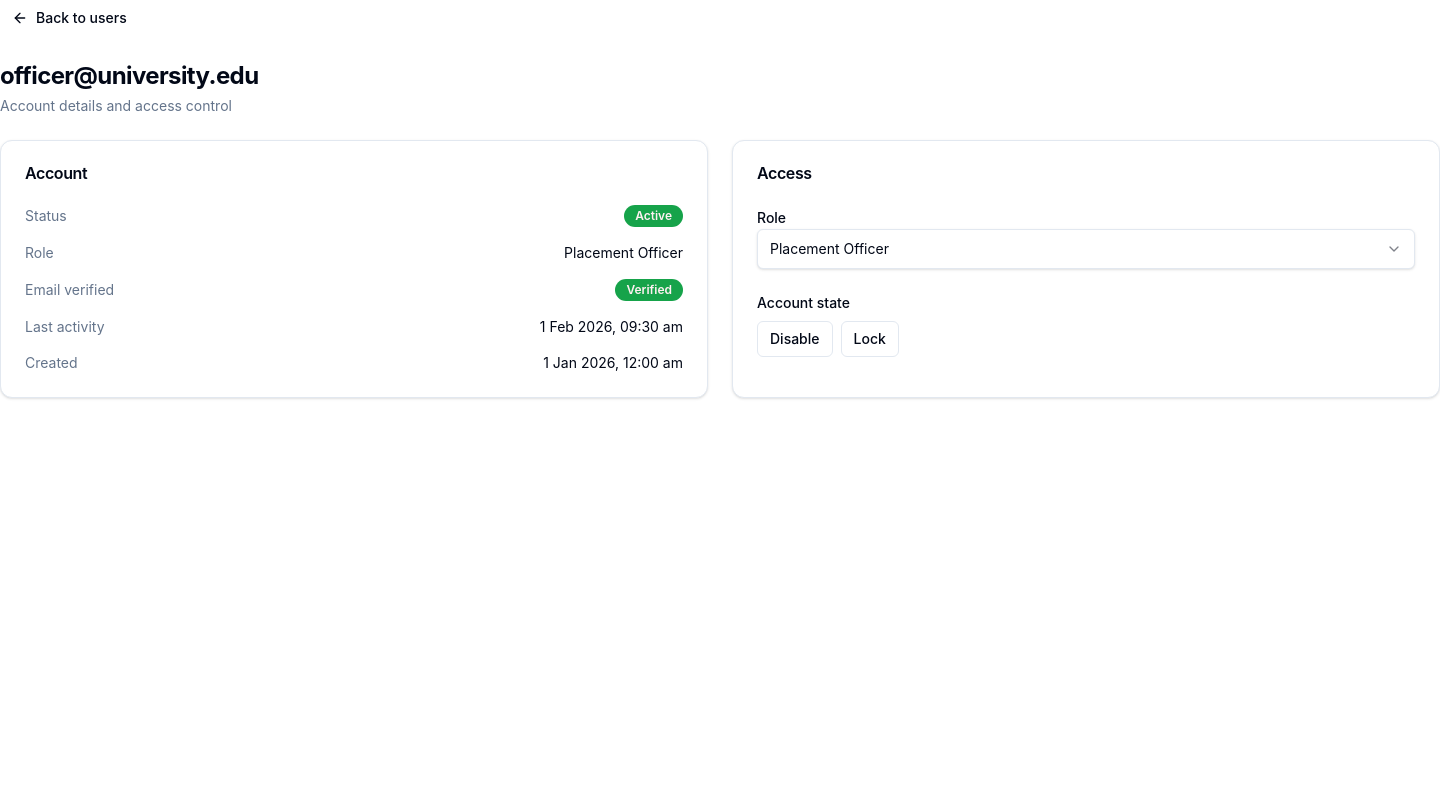
Test: UserDetailPage › confirms before disabling, then applies the change
Expected: the heading "officer@university.edu" is shown, [0, 60, 258, 92]
Click the button "Disable": (795, 339) [757, 321, 832, 357]
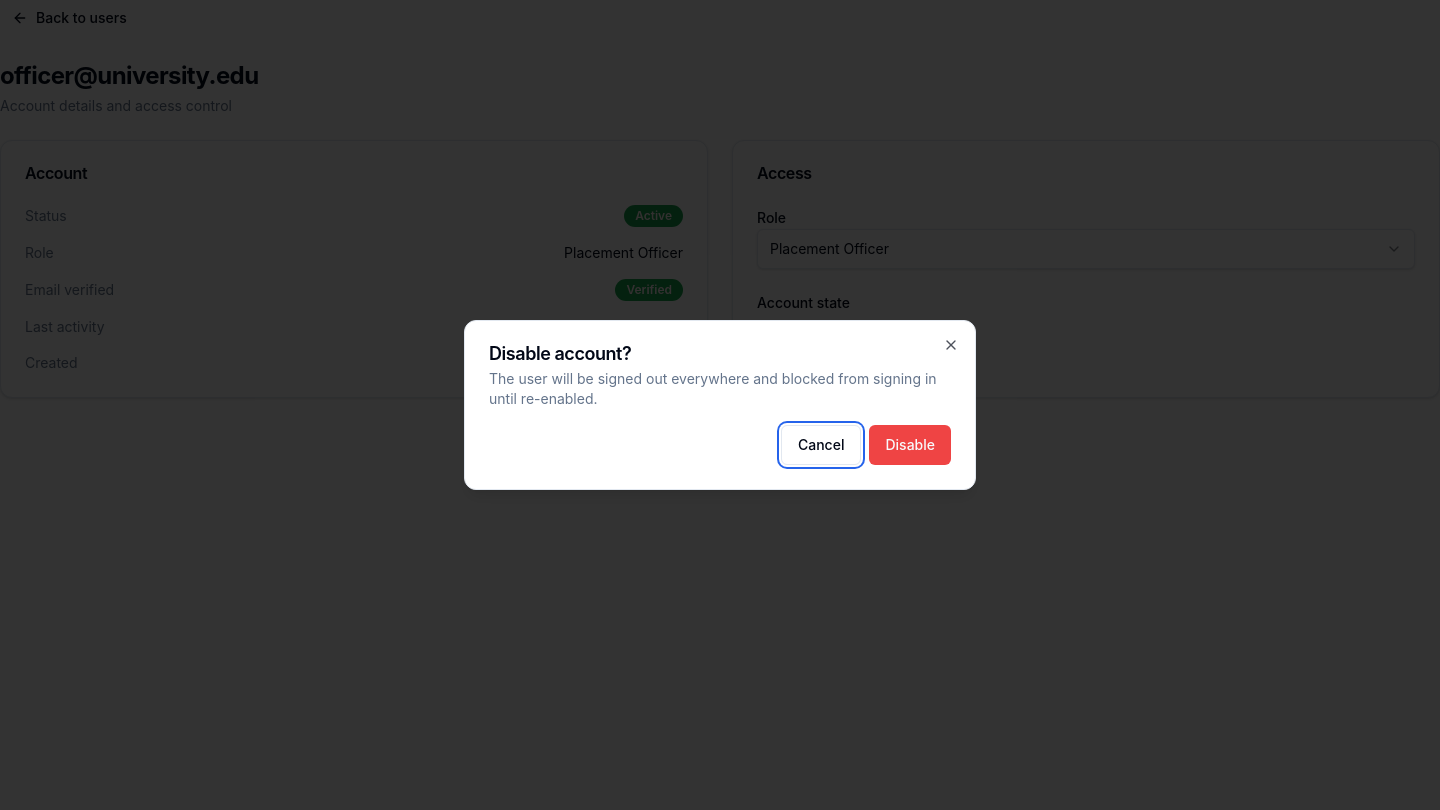
Expected: the heading "Disable account?" is shown, [489, 343, 631, 364]
Click the button "Disable": (910, 445) [870, 425, 951, 465]
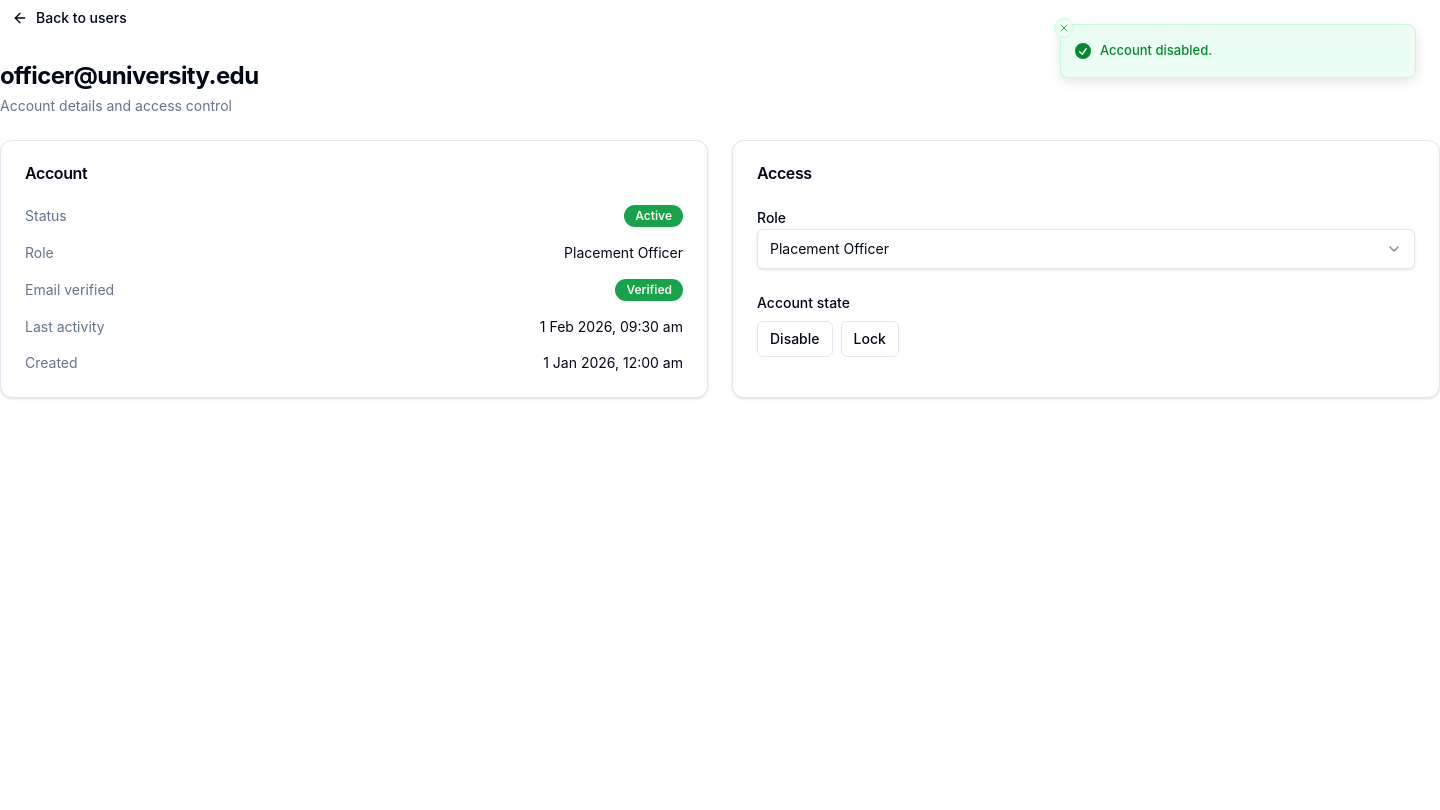
Expected: the text "Account disabled." is shown, [1100, 41, 1212, 60]
